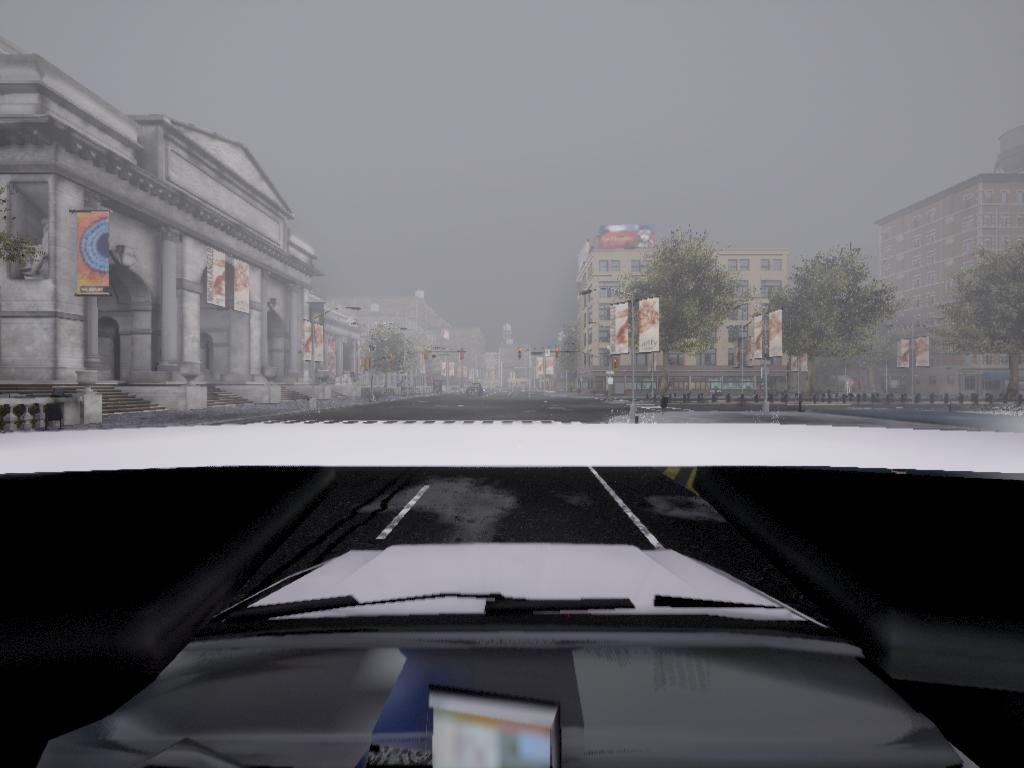traffic_light: (613, 358, 621, 373), (365, 358, 371, 374), (516, 349, 524, 360), (424, 350, 430, 362), (519, 350, 526, 360), (555, 348, 560, 360), (461, 350, 466, 362), (392, 355, 396, 365)
